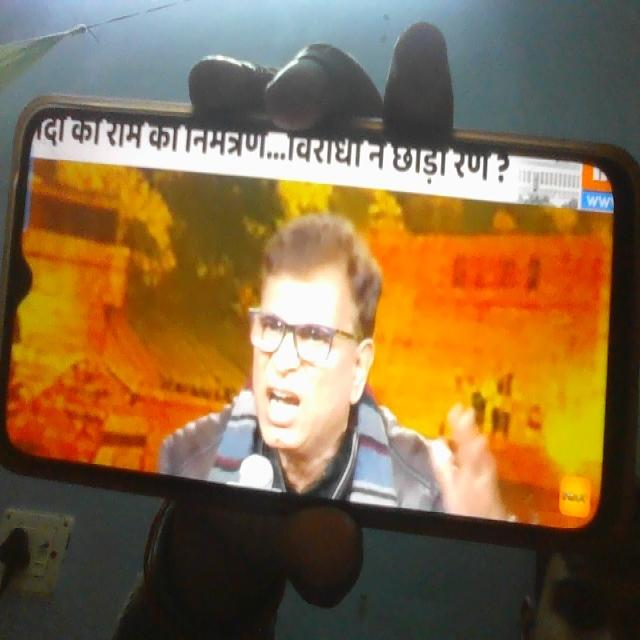fake: (233, 205, 378, 479)
